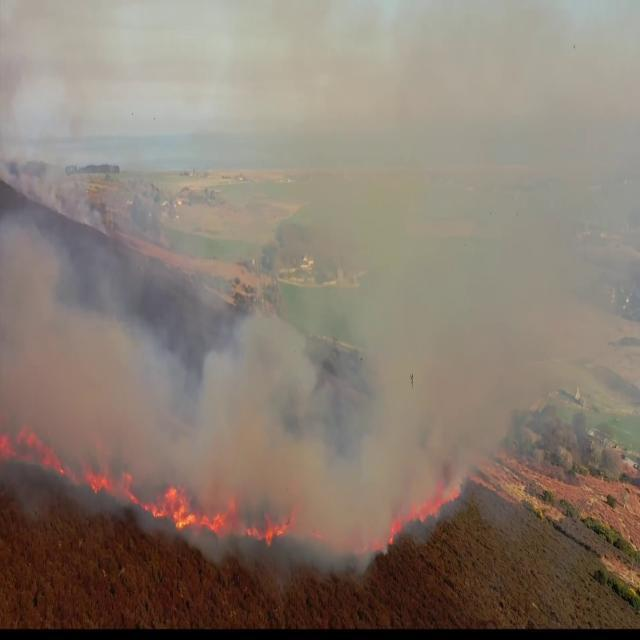Fire: (159, 485, 236, 536), (409, 486, 452, 525)
Smoke: (388, 8, 628, 238), (212, 310, 311, 478), (0, 318, 153, 424), (393, 281, 499, 431), (0, 224, 70, 407)
